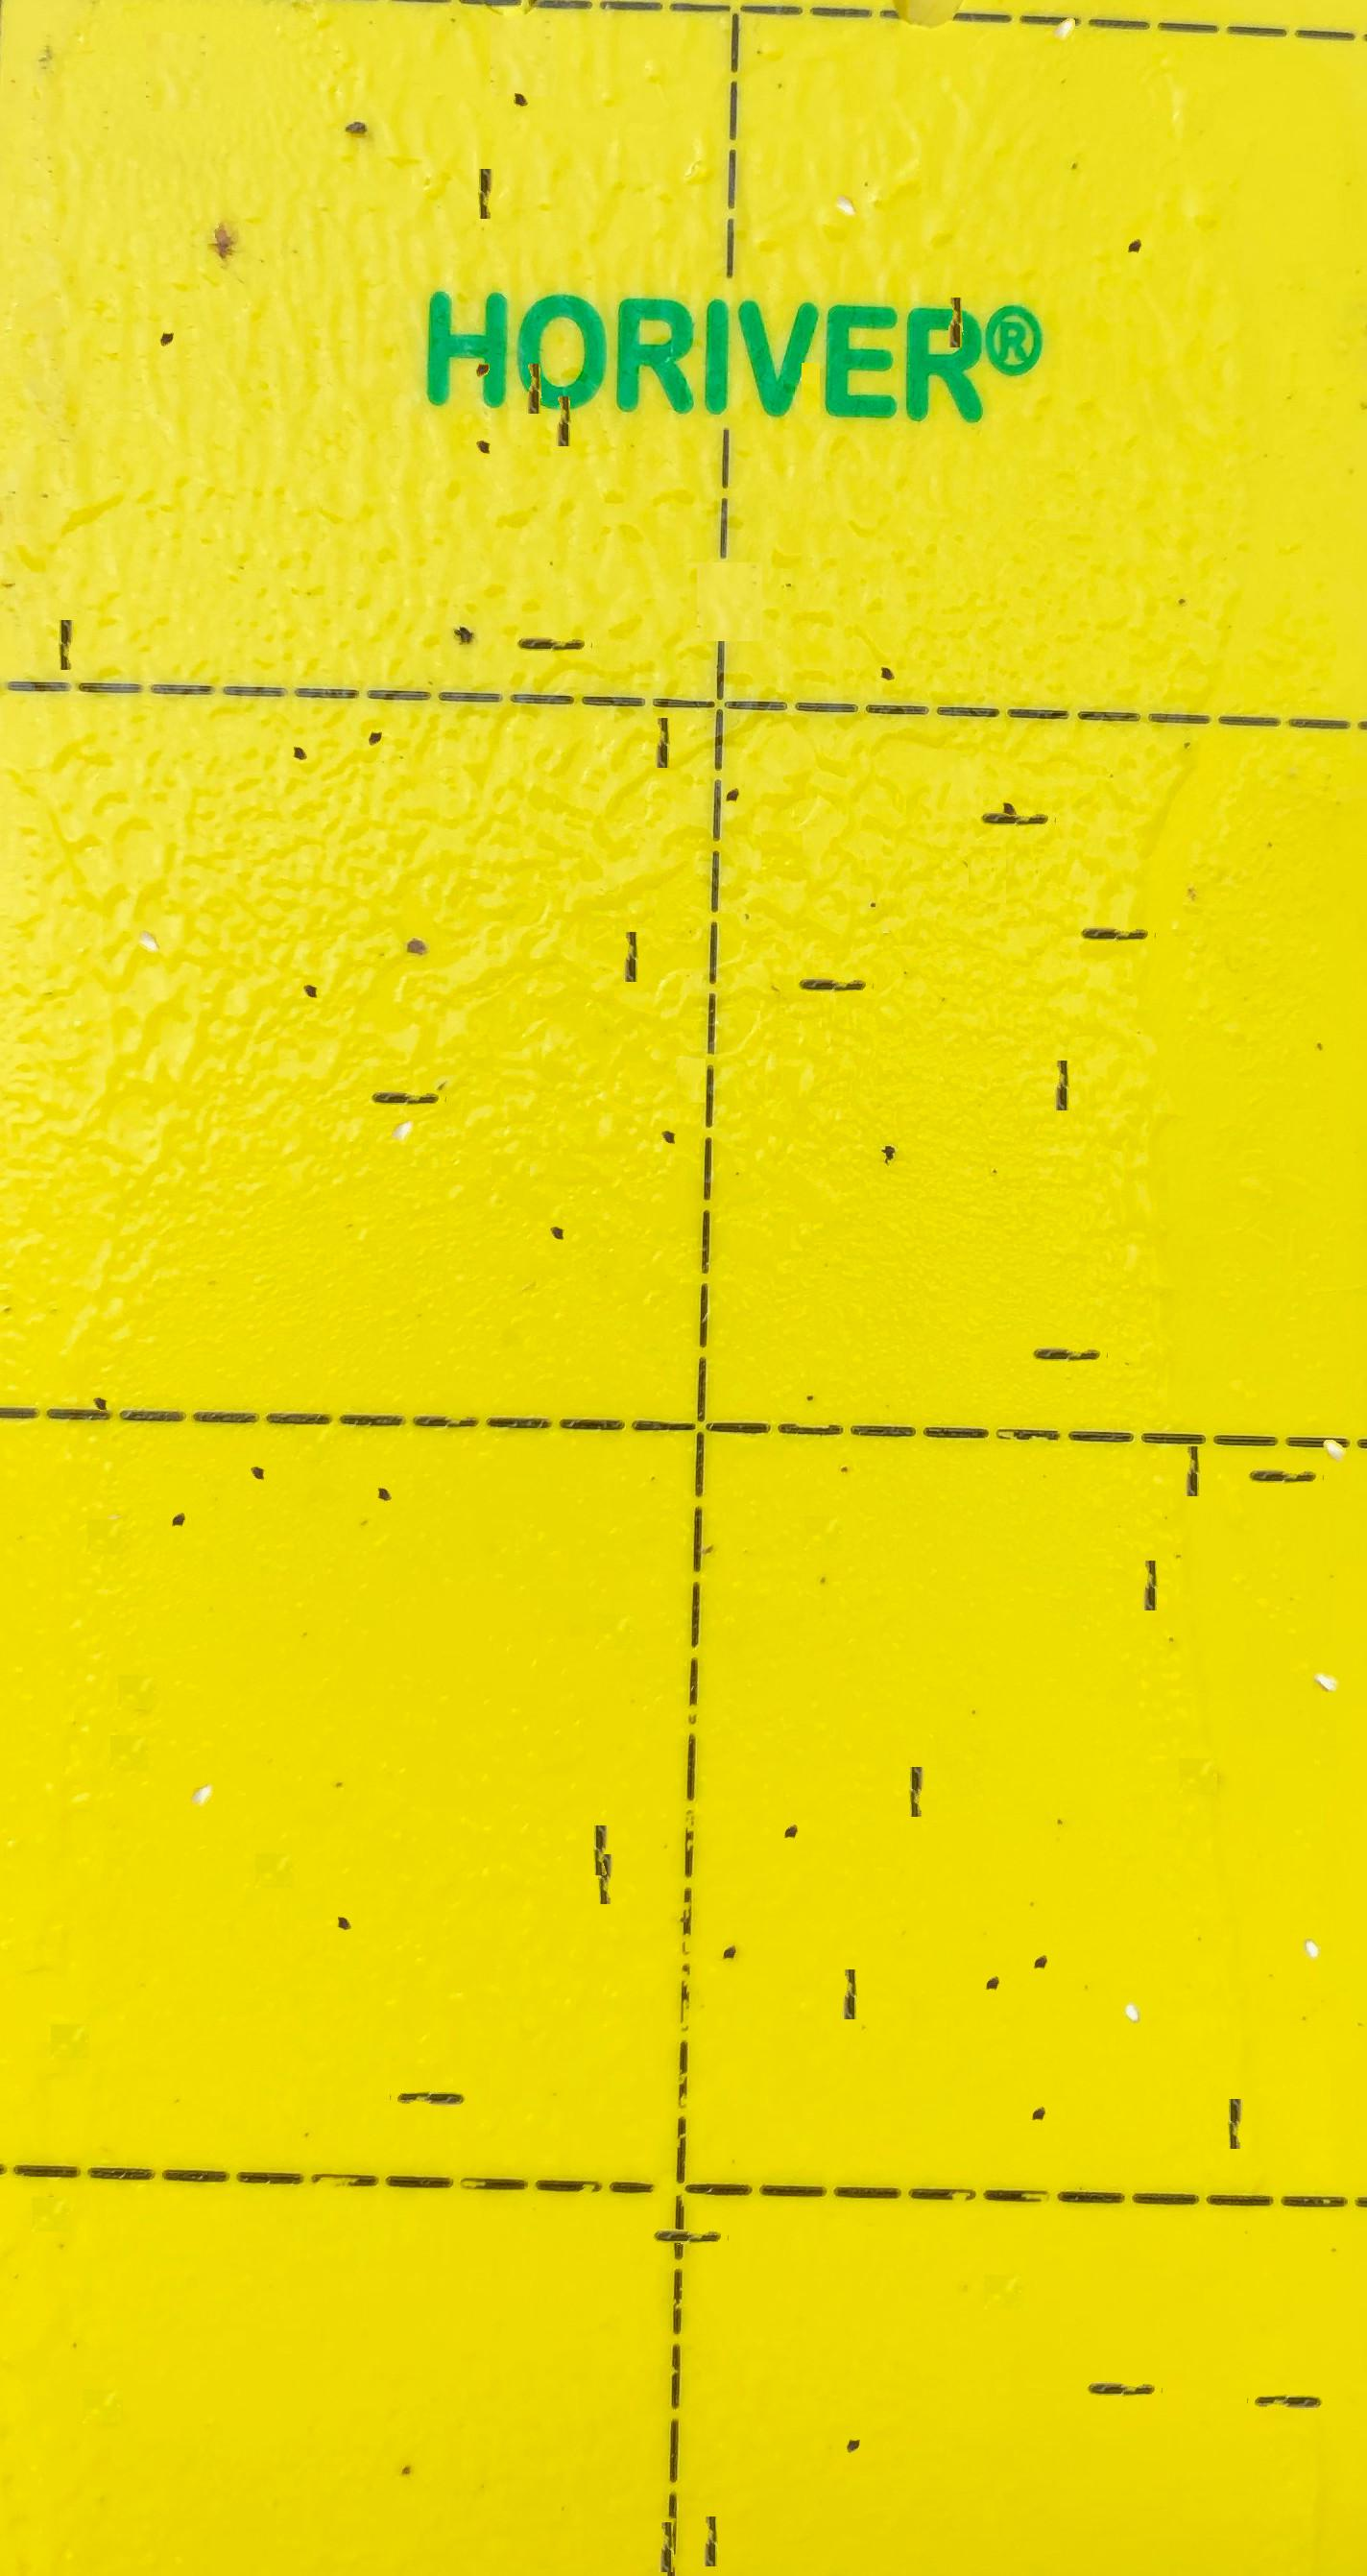white_fly: (1290, 1877, 1333, 1927), (1111, 1941, 1154, 1988), (1307, 1613, 1350, 1658), (126, 876, 169, 920), (823, 140, 866, 184), (181, 1731, 223, 1775), (1314, 1387, 1357, 1429), (382, 1067, 423, 1111)
